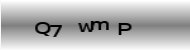7: (50, 24, 62, 37)
P: (116, 22, 132, 35)
Q: (34, 21, 50, 36)
m: (90, 20, 110, 30)
w: (77, 21, 93, 32)
